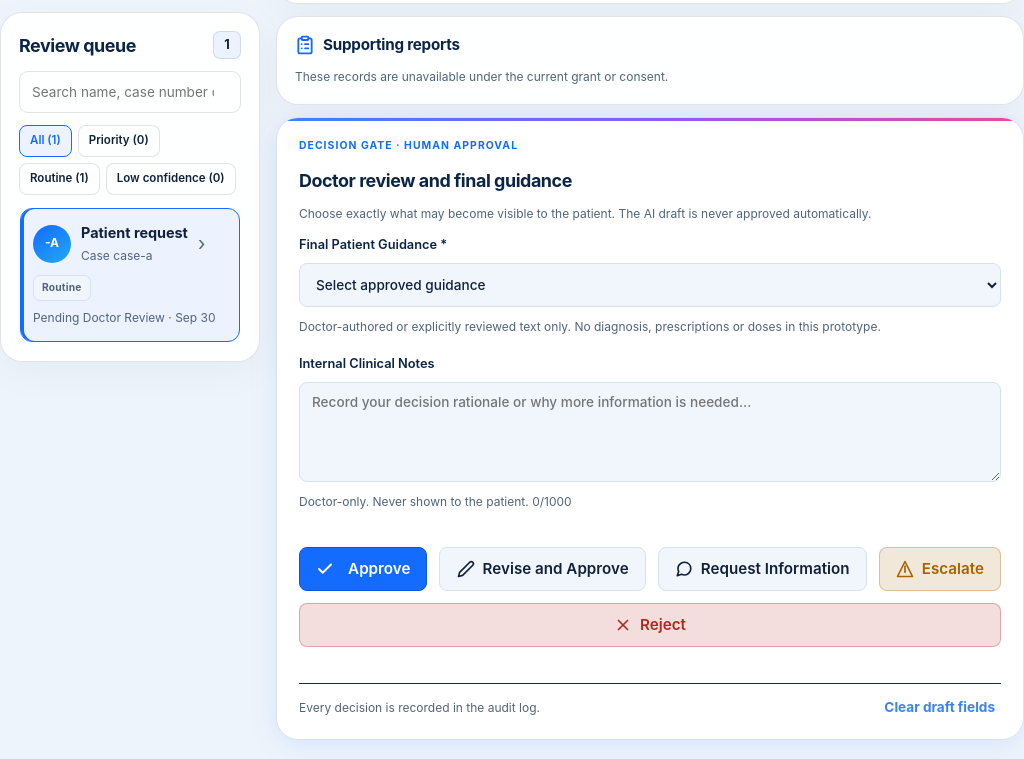
Test: ApprovalsPage › blocks approval without approved guidance and lets the doctor cancel a decision
This screenshot has width=1024, height=759.
(page scrolled)
Click the button "Approve" at (363, 569), box x1=299 y1=547 x2=428 y2=591
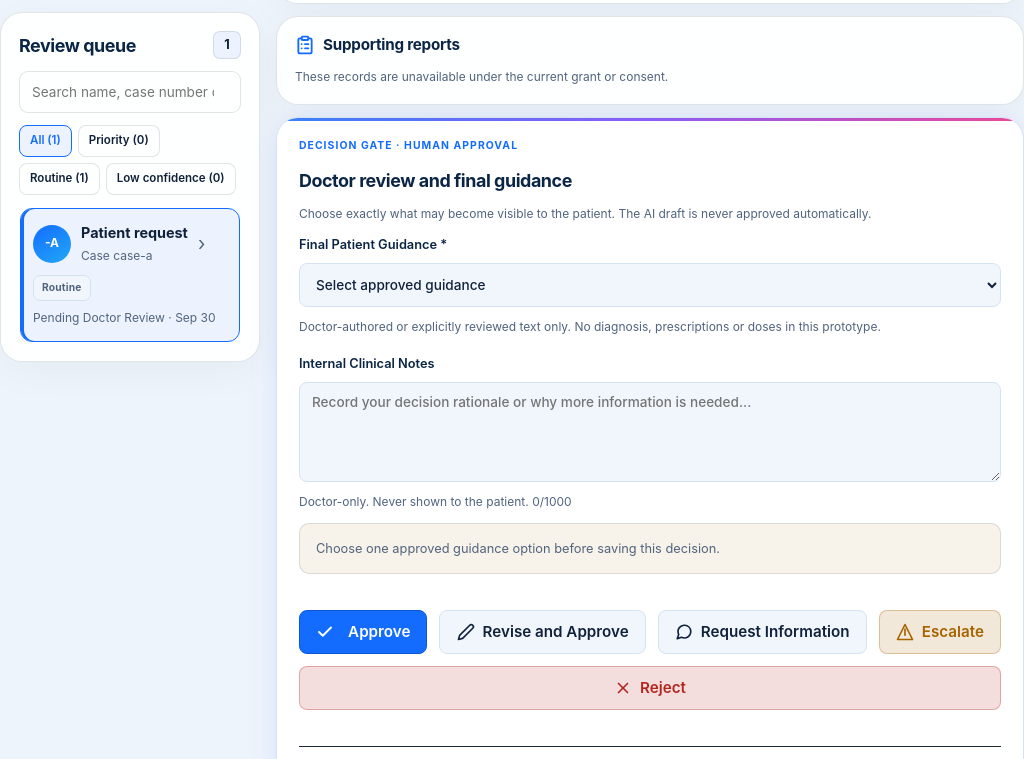
Expected: the text "Choose one approved guidance option before saving this decision." is shown, x1=299 y1=523 x2=1001 y2=574
Click the button "Reject" at (650, 688), box x1=299 y1=666 x2=1001 y2=710
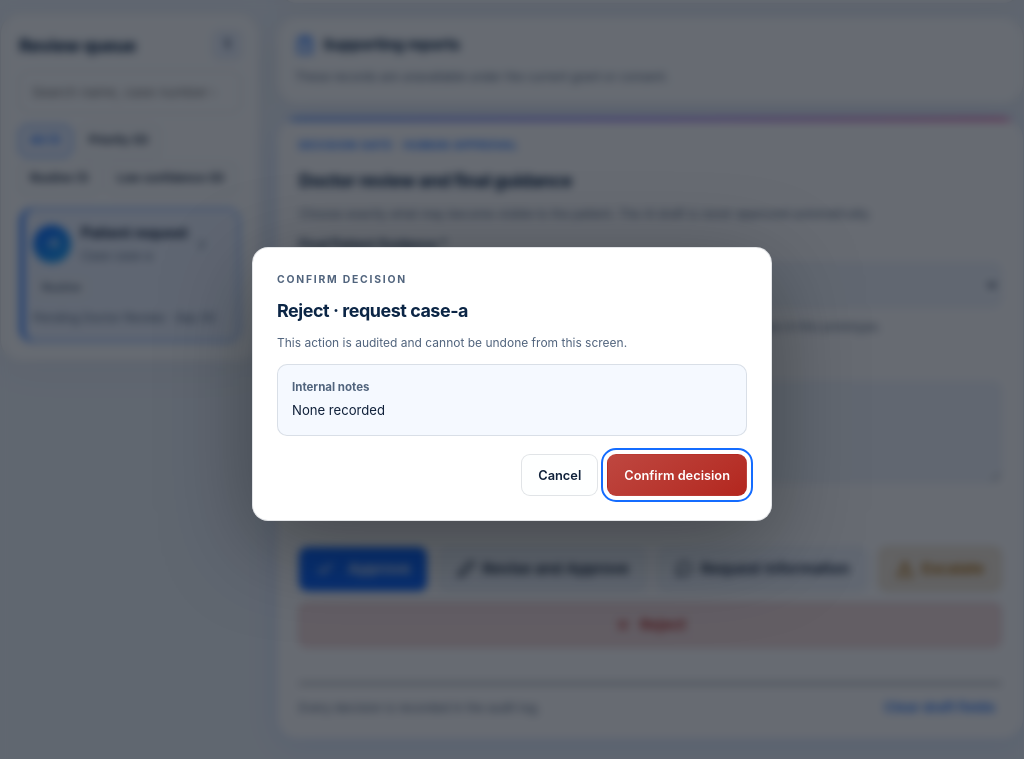
Expected: the dialog is shown, x1=252 y1=246 x2=772 y2=522
Click the button "Cancel" at (560, 476), box x1=521 y1=454 x2=598 y2=496
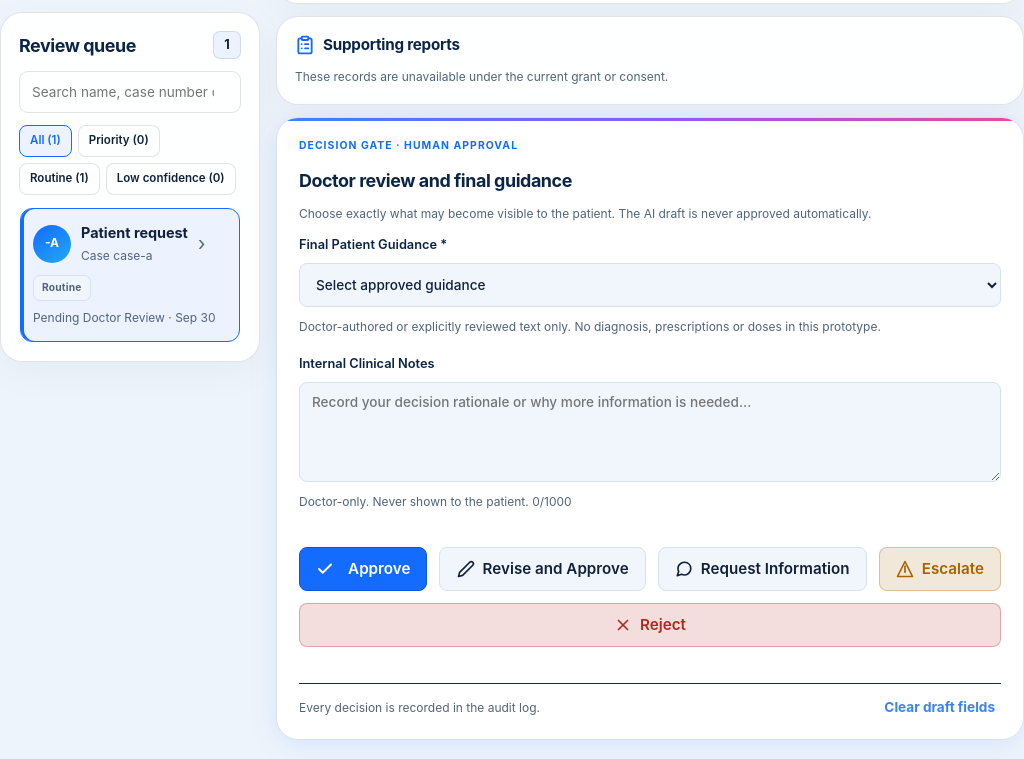
Expected: the dialog is gone
